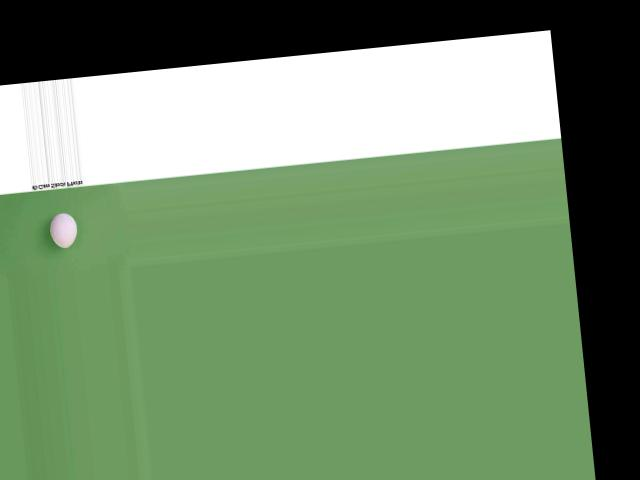egg: (48, 211, 78, 248)
